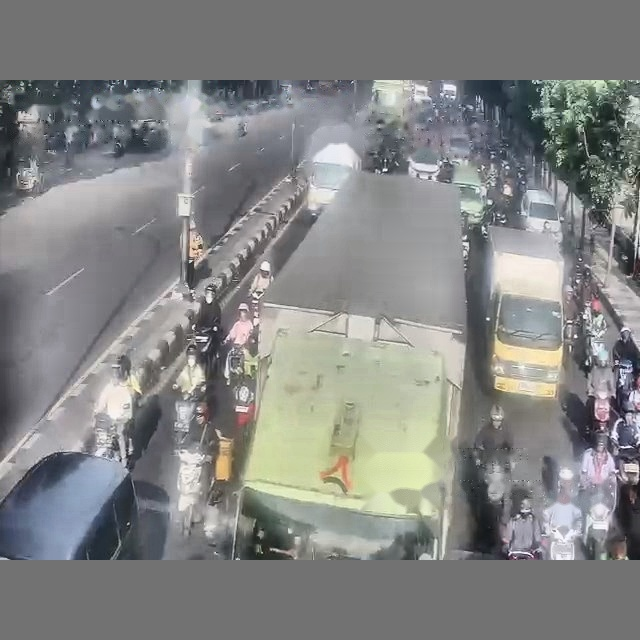Motor: (177, 424, 210, 535), (583, 478, 616, 559), (173, 386, 206, 450), (188, 324, 220, 377), (94, 414, 128, 463), (548, 526, 578, 560), (590, 384, 610, 432), (614, 359, 633, 409), (250, 291, 264, 325), (238, 122, 247, 136)
Truk: (233, 172, 466, 558), (485, 226, 564, 398), (304, 124, 364, 216), (371, 80, 414, 128)
